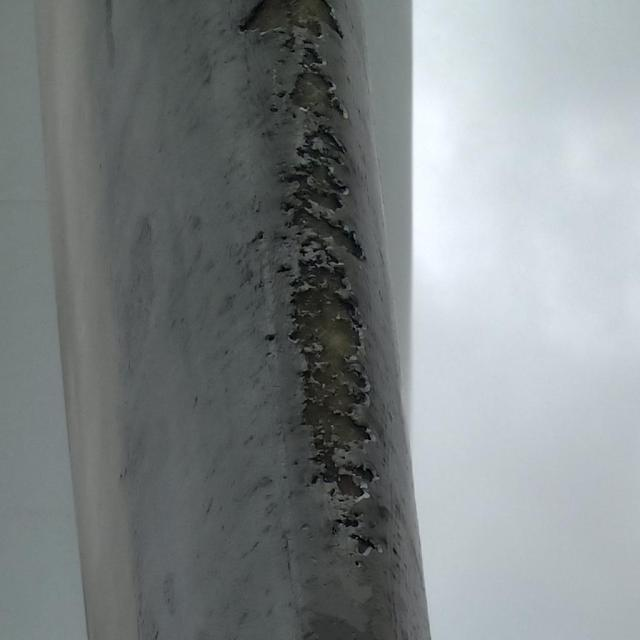corrosion: (236, 3, 387, 556)
